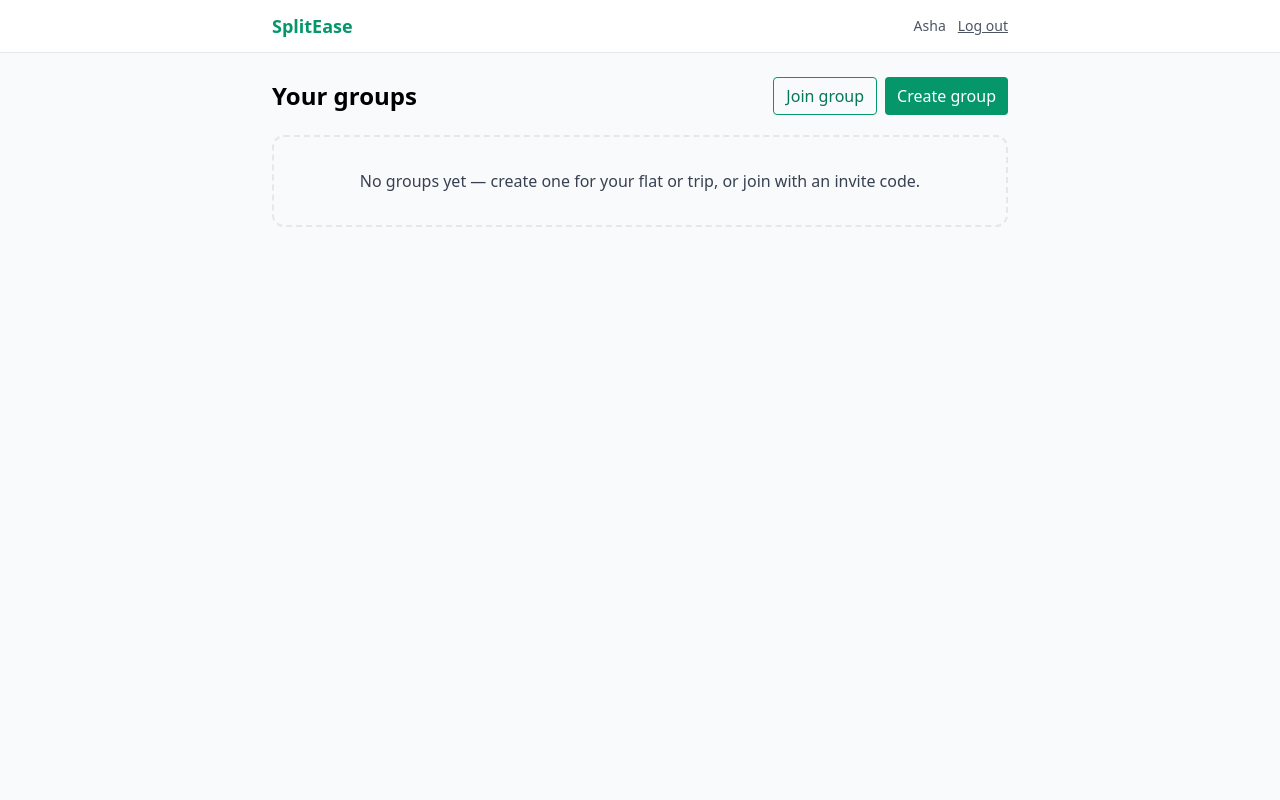
dashboard › joins a group with an invite code
Click the button "Join group".
click(825, 96)  # box [773,77,877,115]
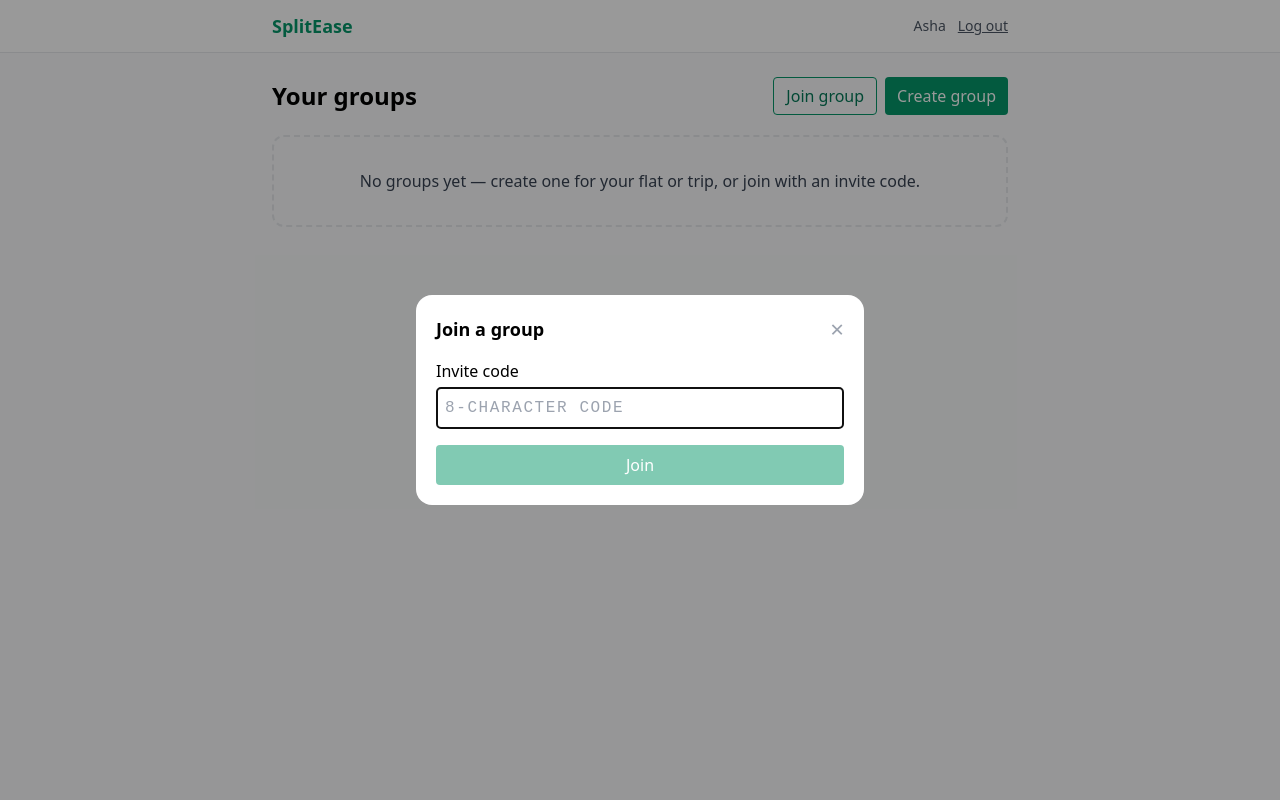
Type "abcd1234" into the field labelled "Invite code".
click(640, 408); type("abcd1234")  # box [436,387,844,429]
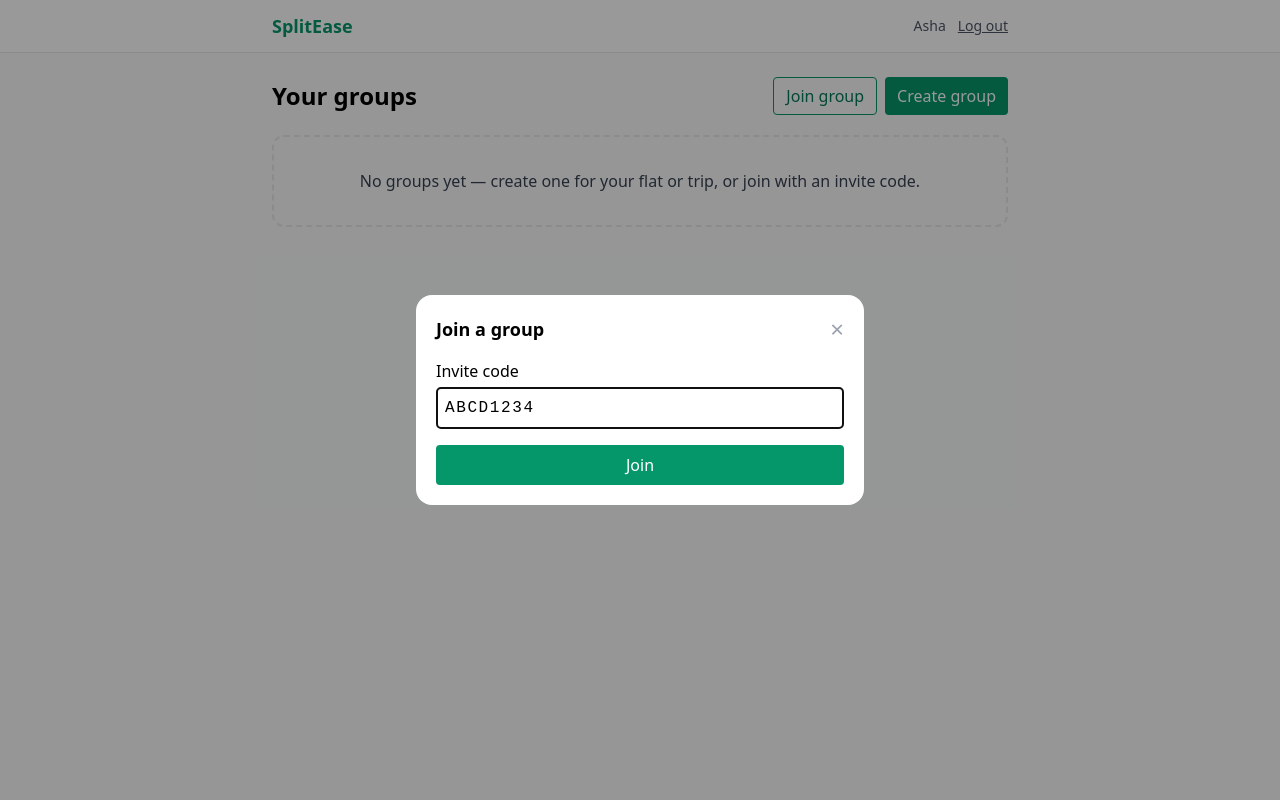
Click the button "Join".
click(640, 465)  # box [436,445,844,485]
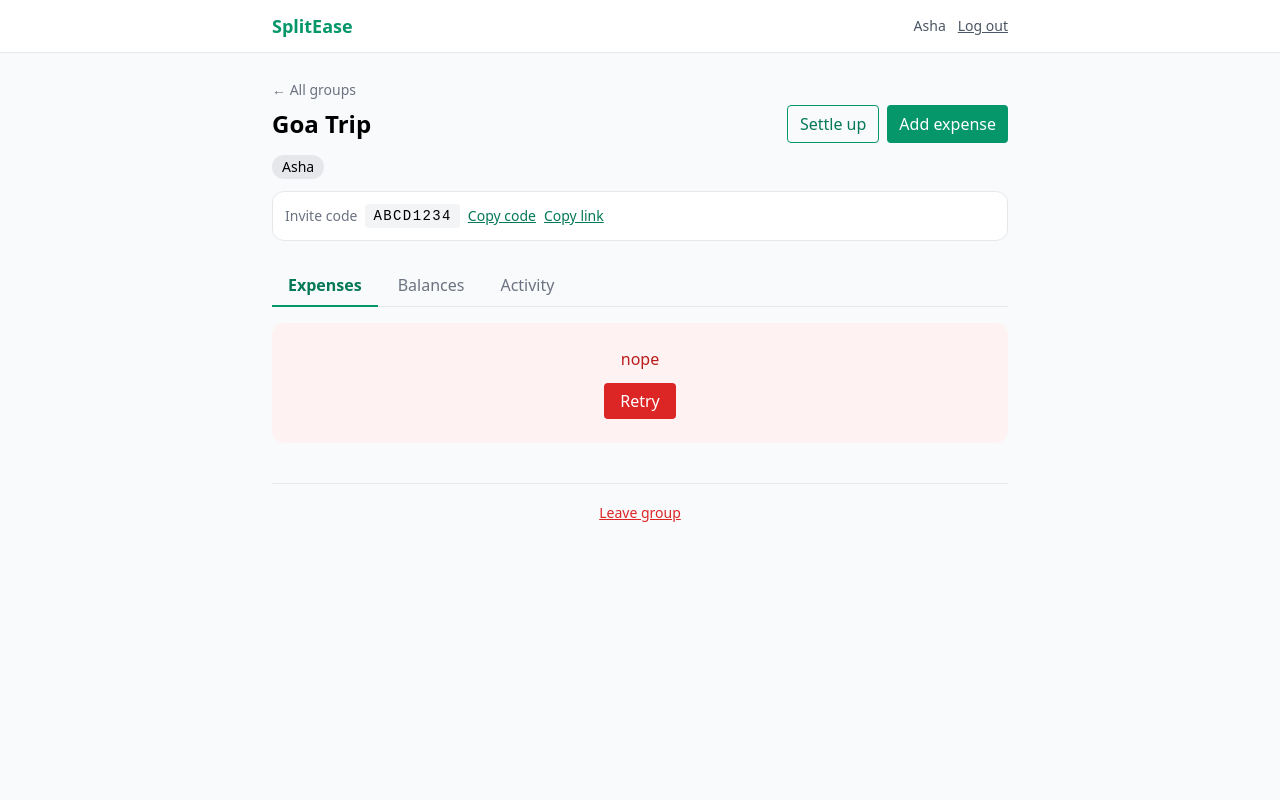
expect the heading "Goa Trip" is shown: met, box [272,108,371,140]
